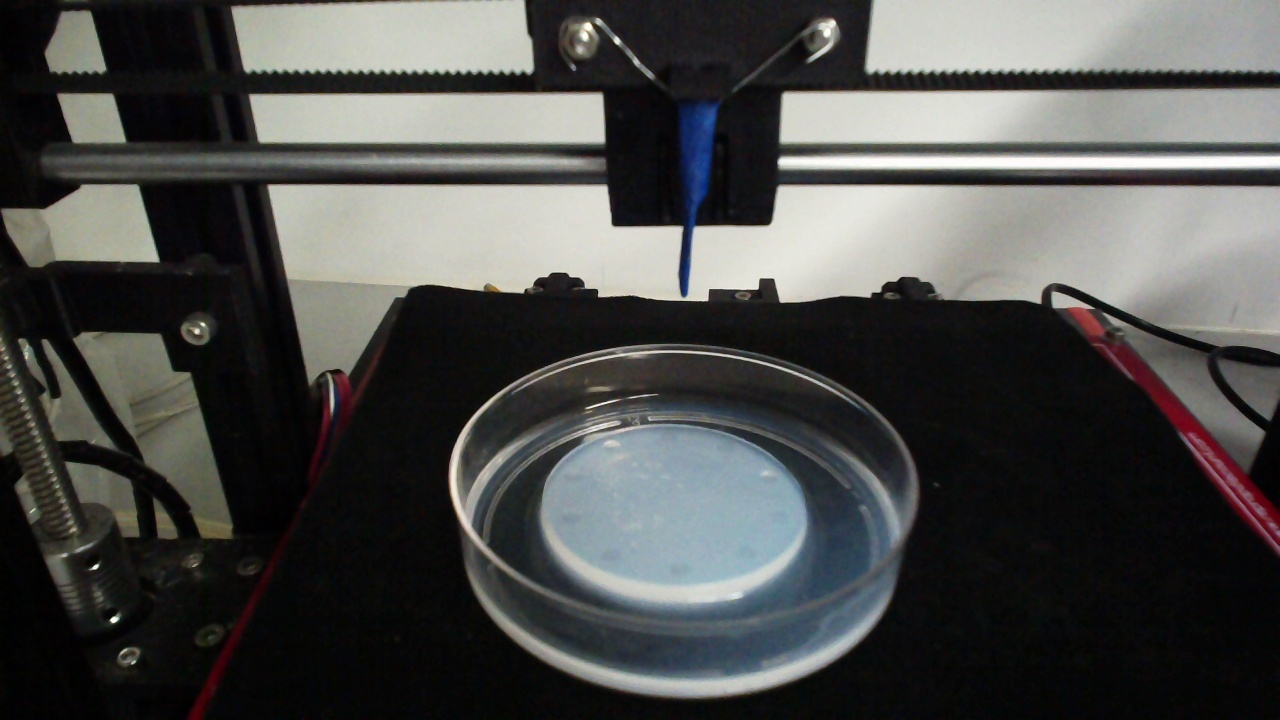groove: (667, 561, 695, 581), (596, 546, 624, 564), (558, 508, 582, 527), (560, 466, 586, 483), (732, 543, 756, 561), (758, 468, 781, 486), (768, 510, 791, 527), (656, 428, 679, 444), (601, 438, 621, 453), (715, 441, 736, 455)
needle: (679, 102, 717, 298)
